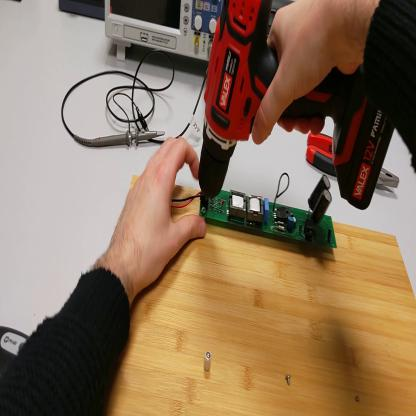electric screwdriver: (199, 1, 394, 213)
hand: (254, 2, 375, 139), (112, 133, 207, 290)
high voltage board: (173, 174, 338, 251)
oscilloscope: (103, 1, 231, 70)
oscilloscope probe tip: (97, 121, 166, 147)
pliers: (306, 132, 401, 193)
socket: (60, 2, 106, 23)
working area: (105, 175, 416, 416)
